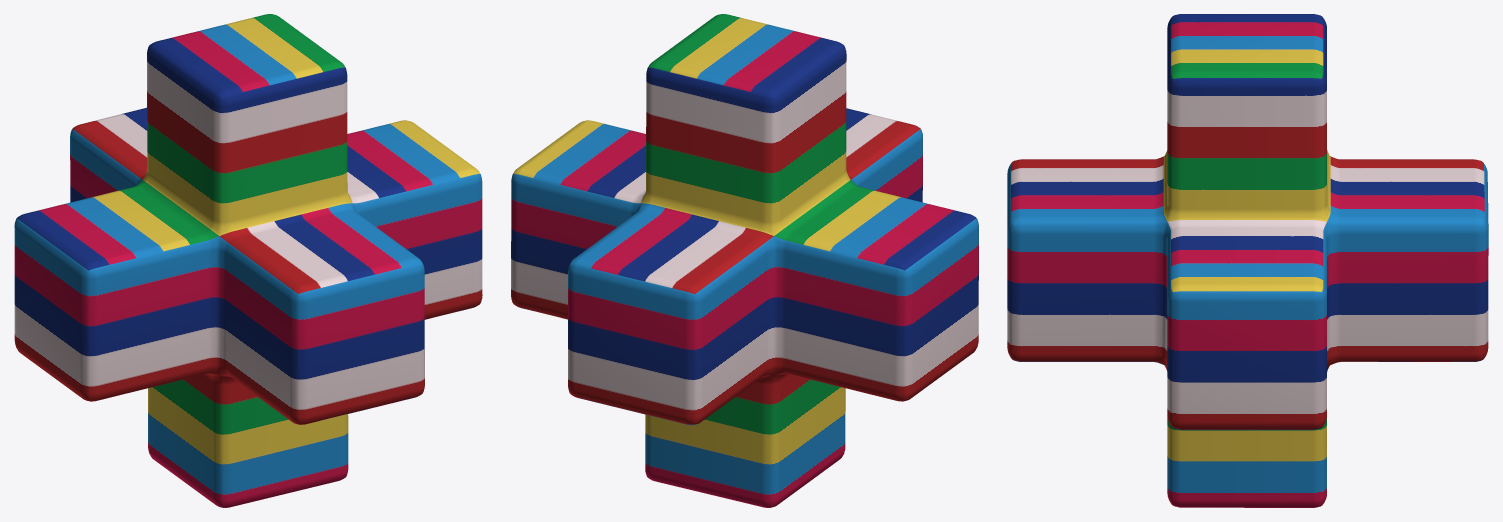
File: A-1_Onstick.fbx
3 views of the same model, side by side, from view 1: azimuth 30°, elevation 25°; view 2: azimuth 150°, elevation 25°; view 3: azimuth 270°, elevation 25° (orthographic). The views are drawn at different scales.
Visible parts, largest first — view 1: A-1; view 2: A-1; view 3: A-1.
Part boxes in pixels (<box>): A-1: <box>14,14,482,507</box>; A-1: <box>511,14,978,507</box>; A-1: <box>1007,14,1488,507</box>.
Bounding box in the file's own units: 98.82 × 98.94 × 98.81.
